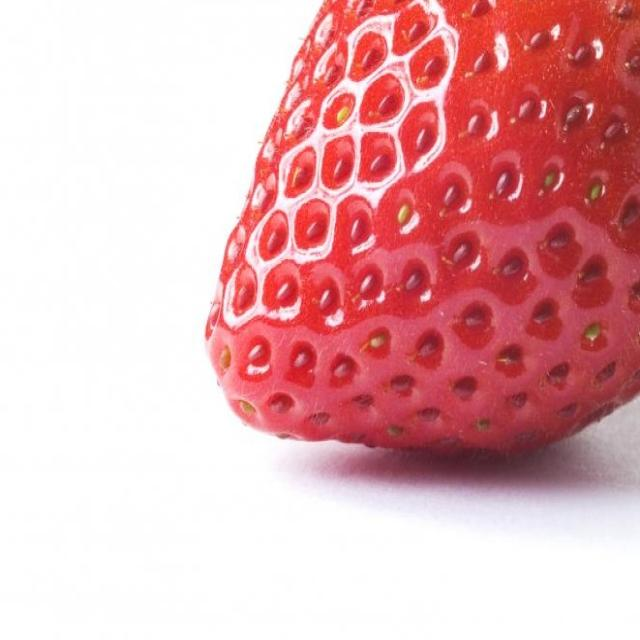strawberry: (192, 0, 640, 469)
